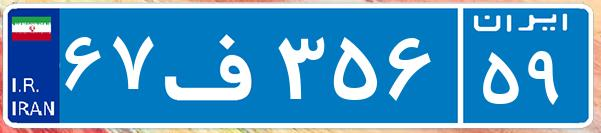3: (273, 28, 330, 110)
5: (330, 28, 385, 110), (475, 38, 525, 113)
6: (385, 28, 445, 110), (57, 26, 110, 107)
7: (110, 28, 158, 105)
9: (525, 38, 570, 115)
ف: (158, 15, 273, 115)
